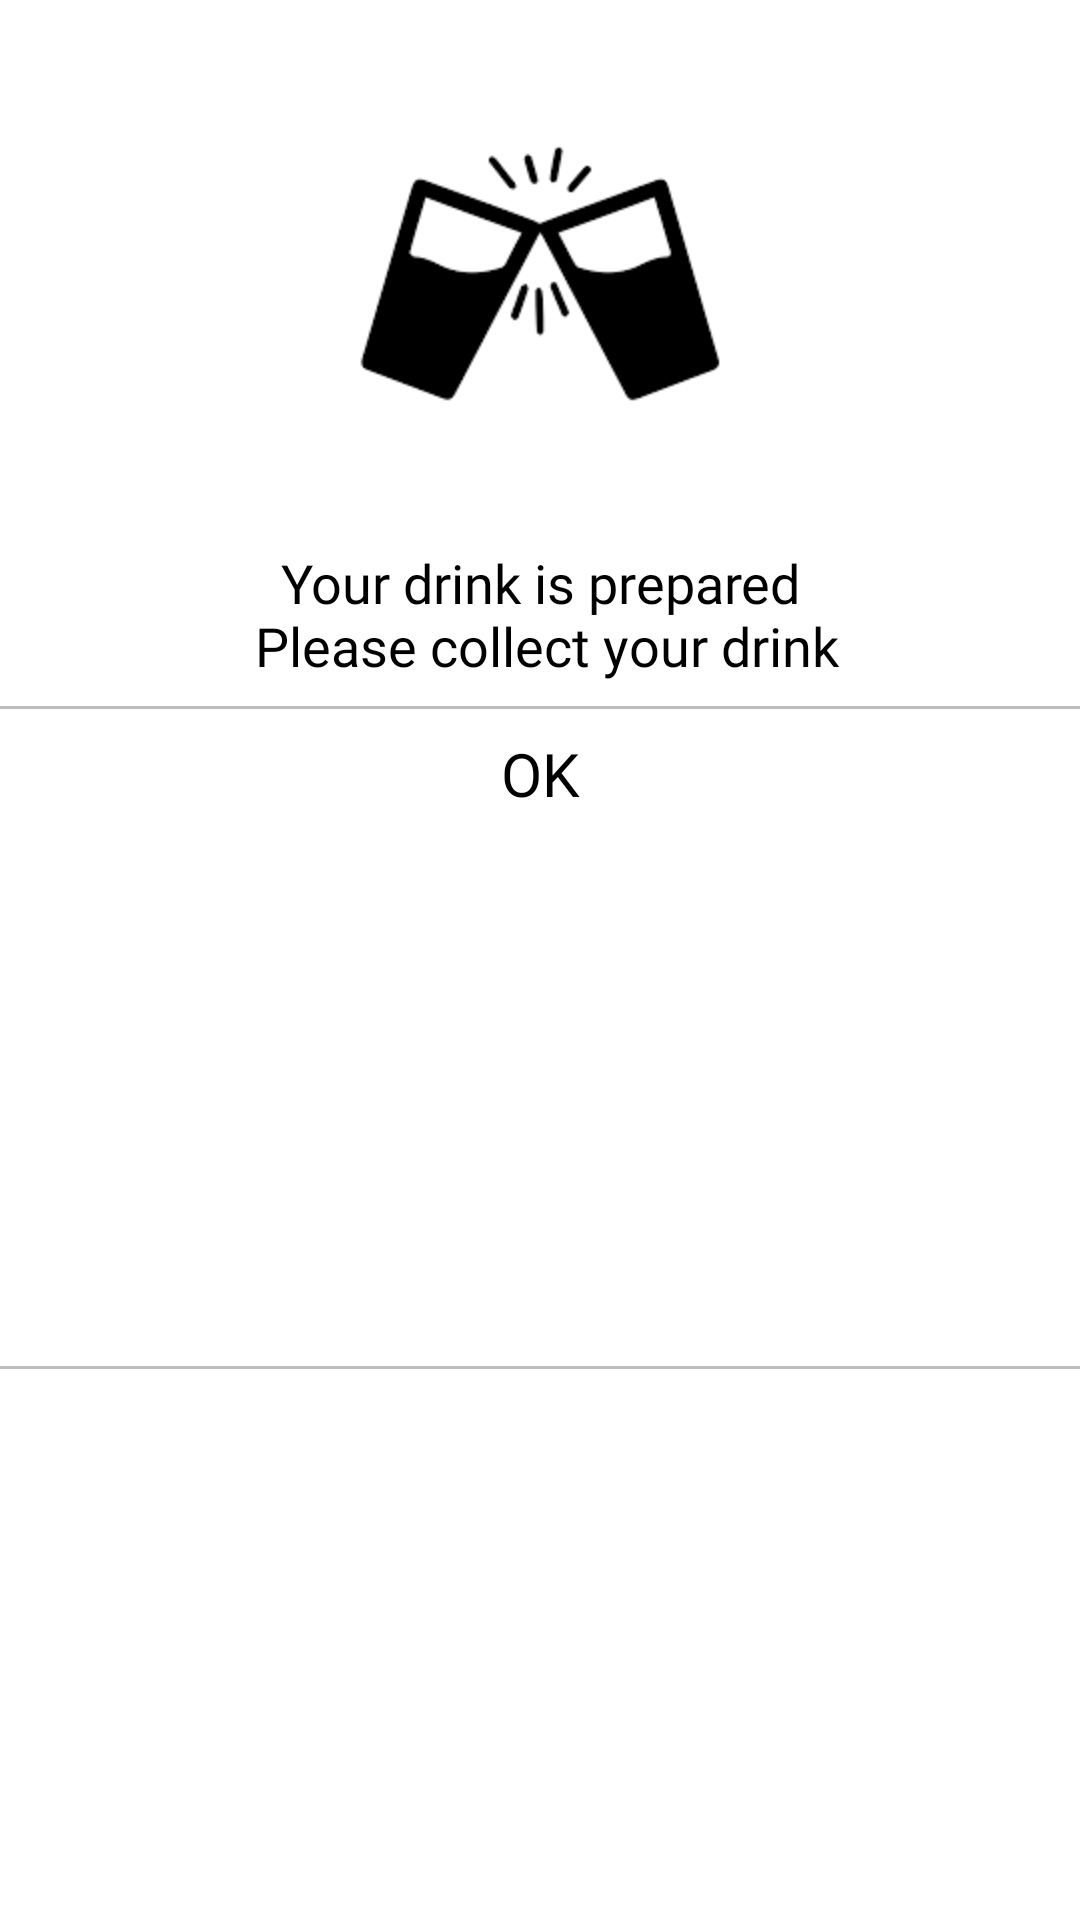

Locate icon controls on the screen. Image size 1080×1920, boxes as (x1, y1, x2, y2).
drink success: (360, 147, 720, 401)
